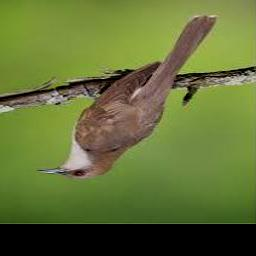Cuckoo: (36, 16, 216, 179)
